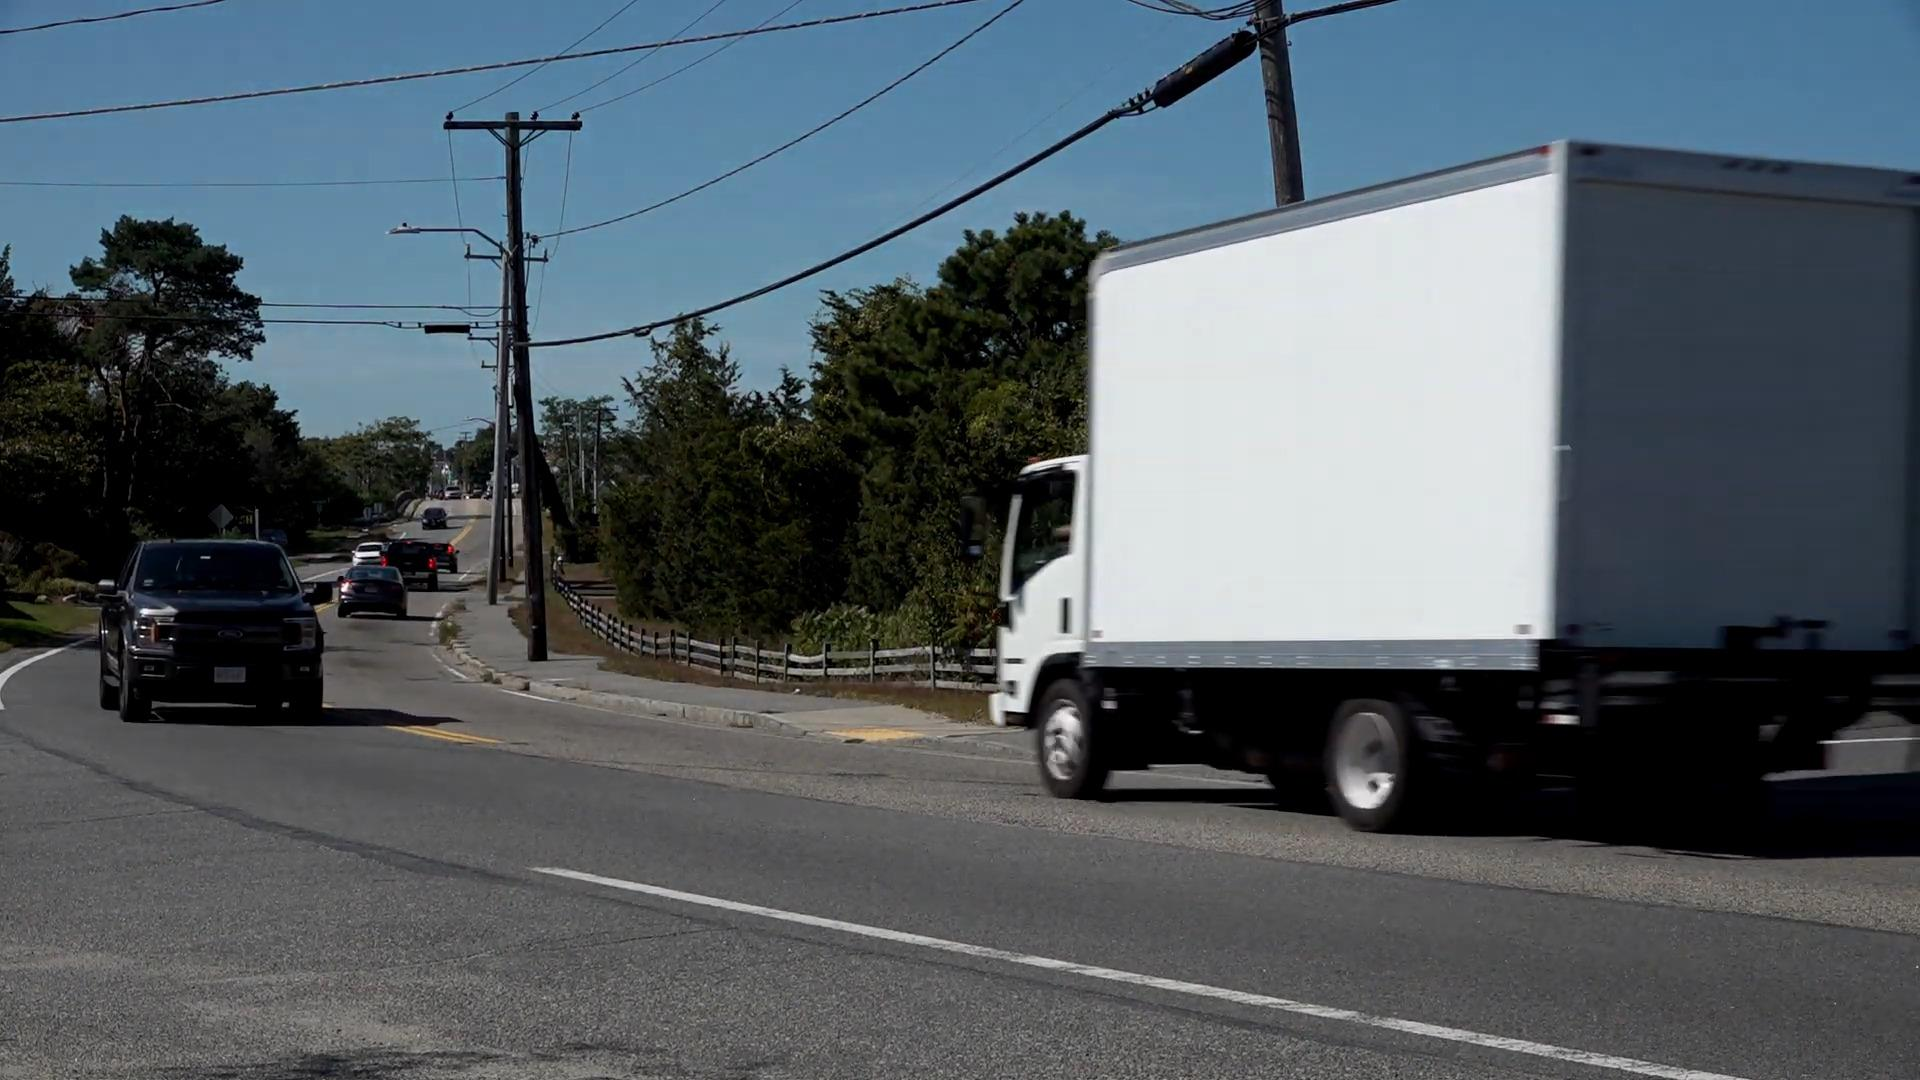pickup: (99, 539, 326, 719)
truck: (993, 151, 1919, 826)
